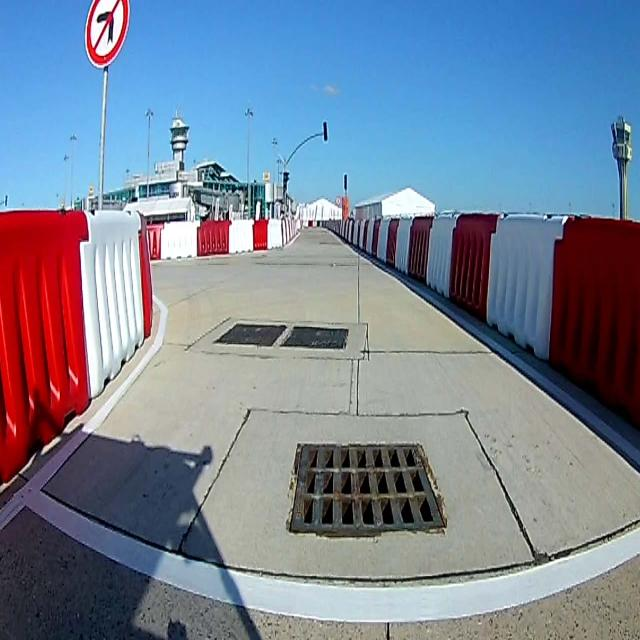soladonulmez: (87, 1, 133, 74)
